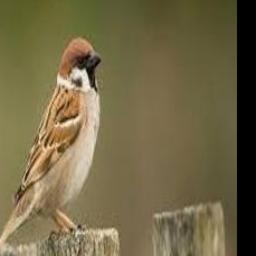Sparrow: (0, 36, 102, 256)
